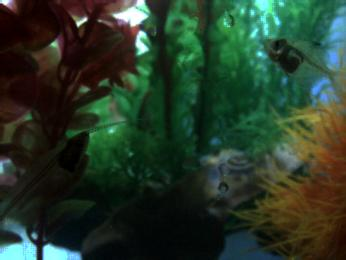X-ray fish: (260, 36, 339, 93)
glassfish: (1, 129, 92, 227)
